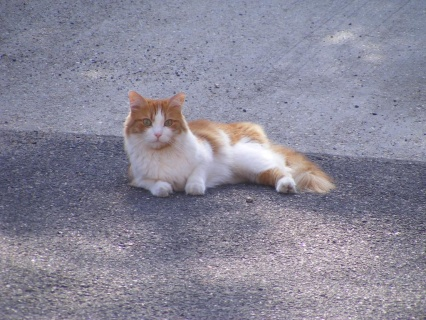Cat: (122, 88, 334, 200)
